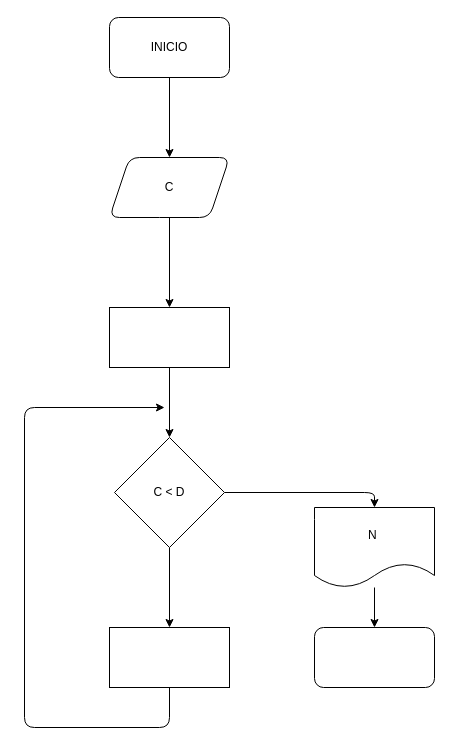
This 452x753 diagram has some shape labels left out. The box of each missing label's shape, as (x1, y1, x2, y2) in pixels:
C = C + 0.05 + C N= N+1: (108, 626, 230, 688)
D = 2 + c Mes = 0: (108, 306, 230, 368)
